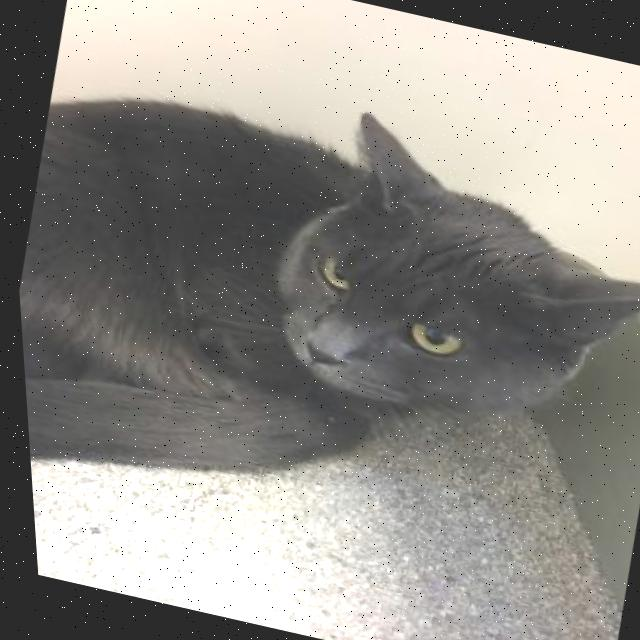Russian Blue: (2, 33, 640, 609)
